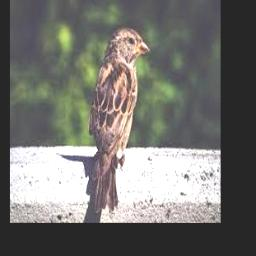Sparrow: (88, 26, 149, 213)
